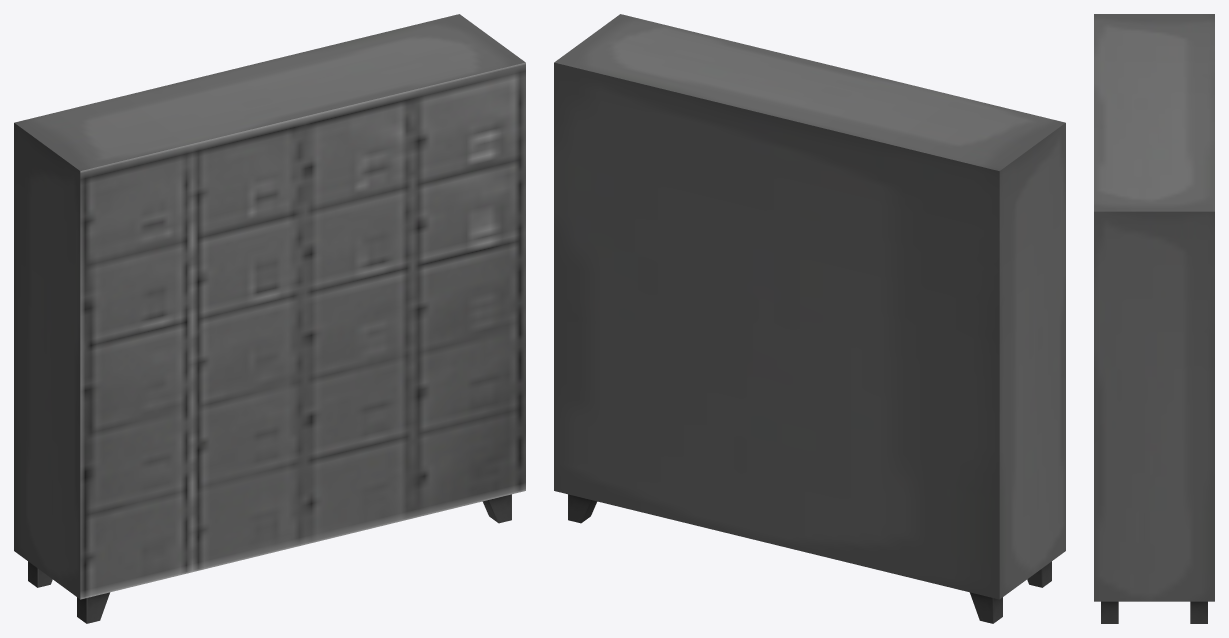
The model's file is Armario_PSX.fbx.
3 renders of one model, left to right at view 1: azimuth 30°, elevation 25°; view 2: azimuth 150°, elevation 25°; view 3: azimuth 270°, elevation 25°, orthographic. The views are drawn at different scales.
Visible parts, largest first — view 1: armario, Cubo; view 2: armario, Cubo; view 3: armario, Cubo.
Boxes of the visible parts, box(x1,y1,x2,y2) form: armario: box(14, 14, 525, 599); Cubo: box(28, 494, 511, 623); armario: box(554, 14, 1065, 599); Cubo: box(568, 494, 1051, 623); armario: box(1094, 14, 1214, 601); Cubo: box(1101, 601, 1207, 623).
Bounding box in the file's own units: 65.59 × 64.43 × 16.91.
Materials: 1 (1 with a texture image).
